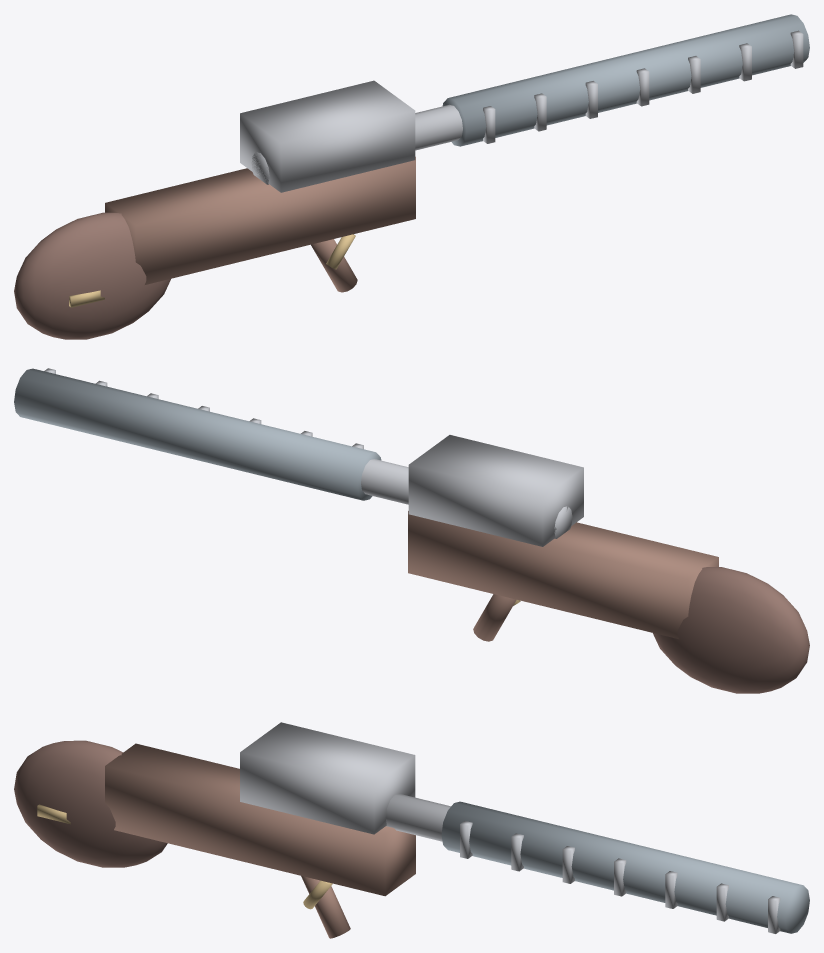
The model's file is rifle_independiente.glb.
3 renders of one model, top to bottom at view 1: azimuth 30°, elevation 25°; view 2: azimuth 150°, elevation 25°; view 3: azimuth 330°, elevation 25°, orthographic.
Parts seen in each view (by area): view 1: Malla_0, Malla_2, Malla_3, Malla_1, Malla_4; view 2: Malla_0, Malla_3, Malla_2, Malla_1; view 3: Malla_0, Malla_2, Malla_3, Malla_1, Malla_4.
Part boxes in pixels (x1,y1,x2,y2): Malla_0: (105,156,415,292); Malla_2: (240,30,803,192); Malla_3: (442,14,809,146); Malla_1: (14,212,170,339); Malla_4: (69,234,355,307); Malla_0: (408,511,718,641); Malla_3: (14,368,381,500); Malla_2: (44,368,583,546); Malla_1: (653,567,809,693); Malla_0: (105,743,415,938); Malla_2: (240,722,780,933); Malla_3: (441,801,809,933); Malla_1: (14,740,167,867); Malla_4: (37,804,332,909).
Size of the model in its own units: 1.98 by 0.4322 by 0.18.
